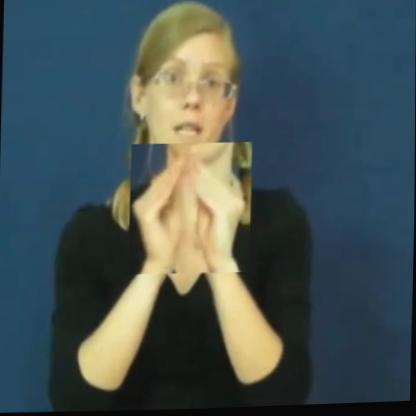Fix: (128, 141, 253, 277)
